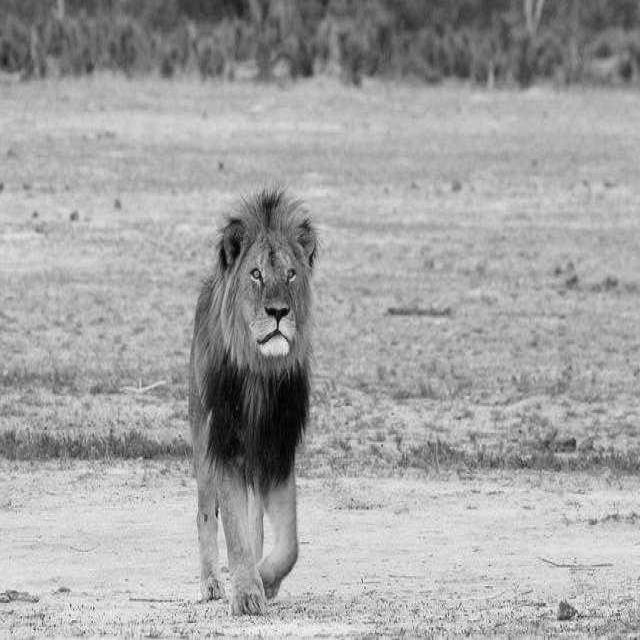Lion: (177, 163, 343, 598)
